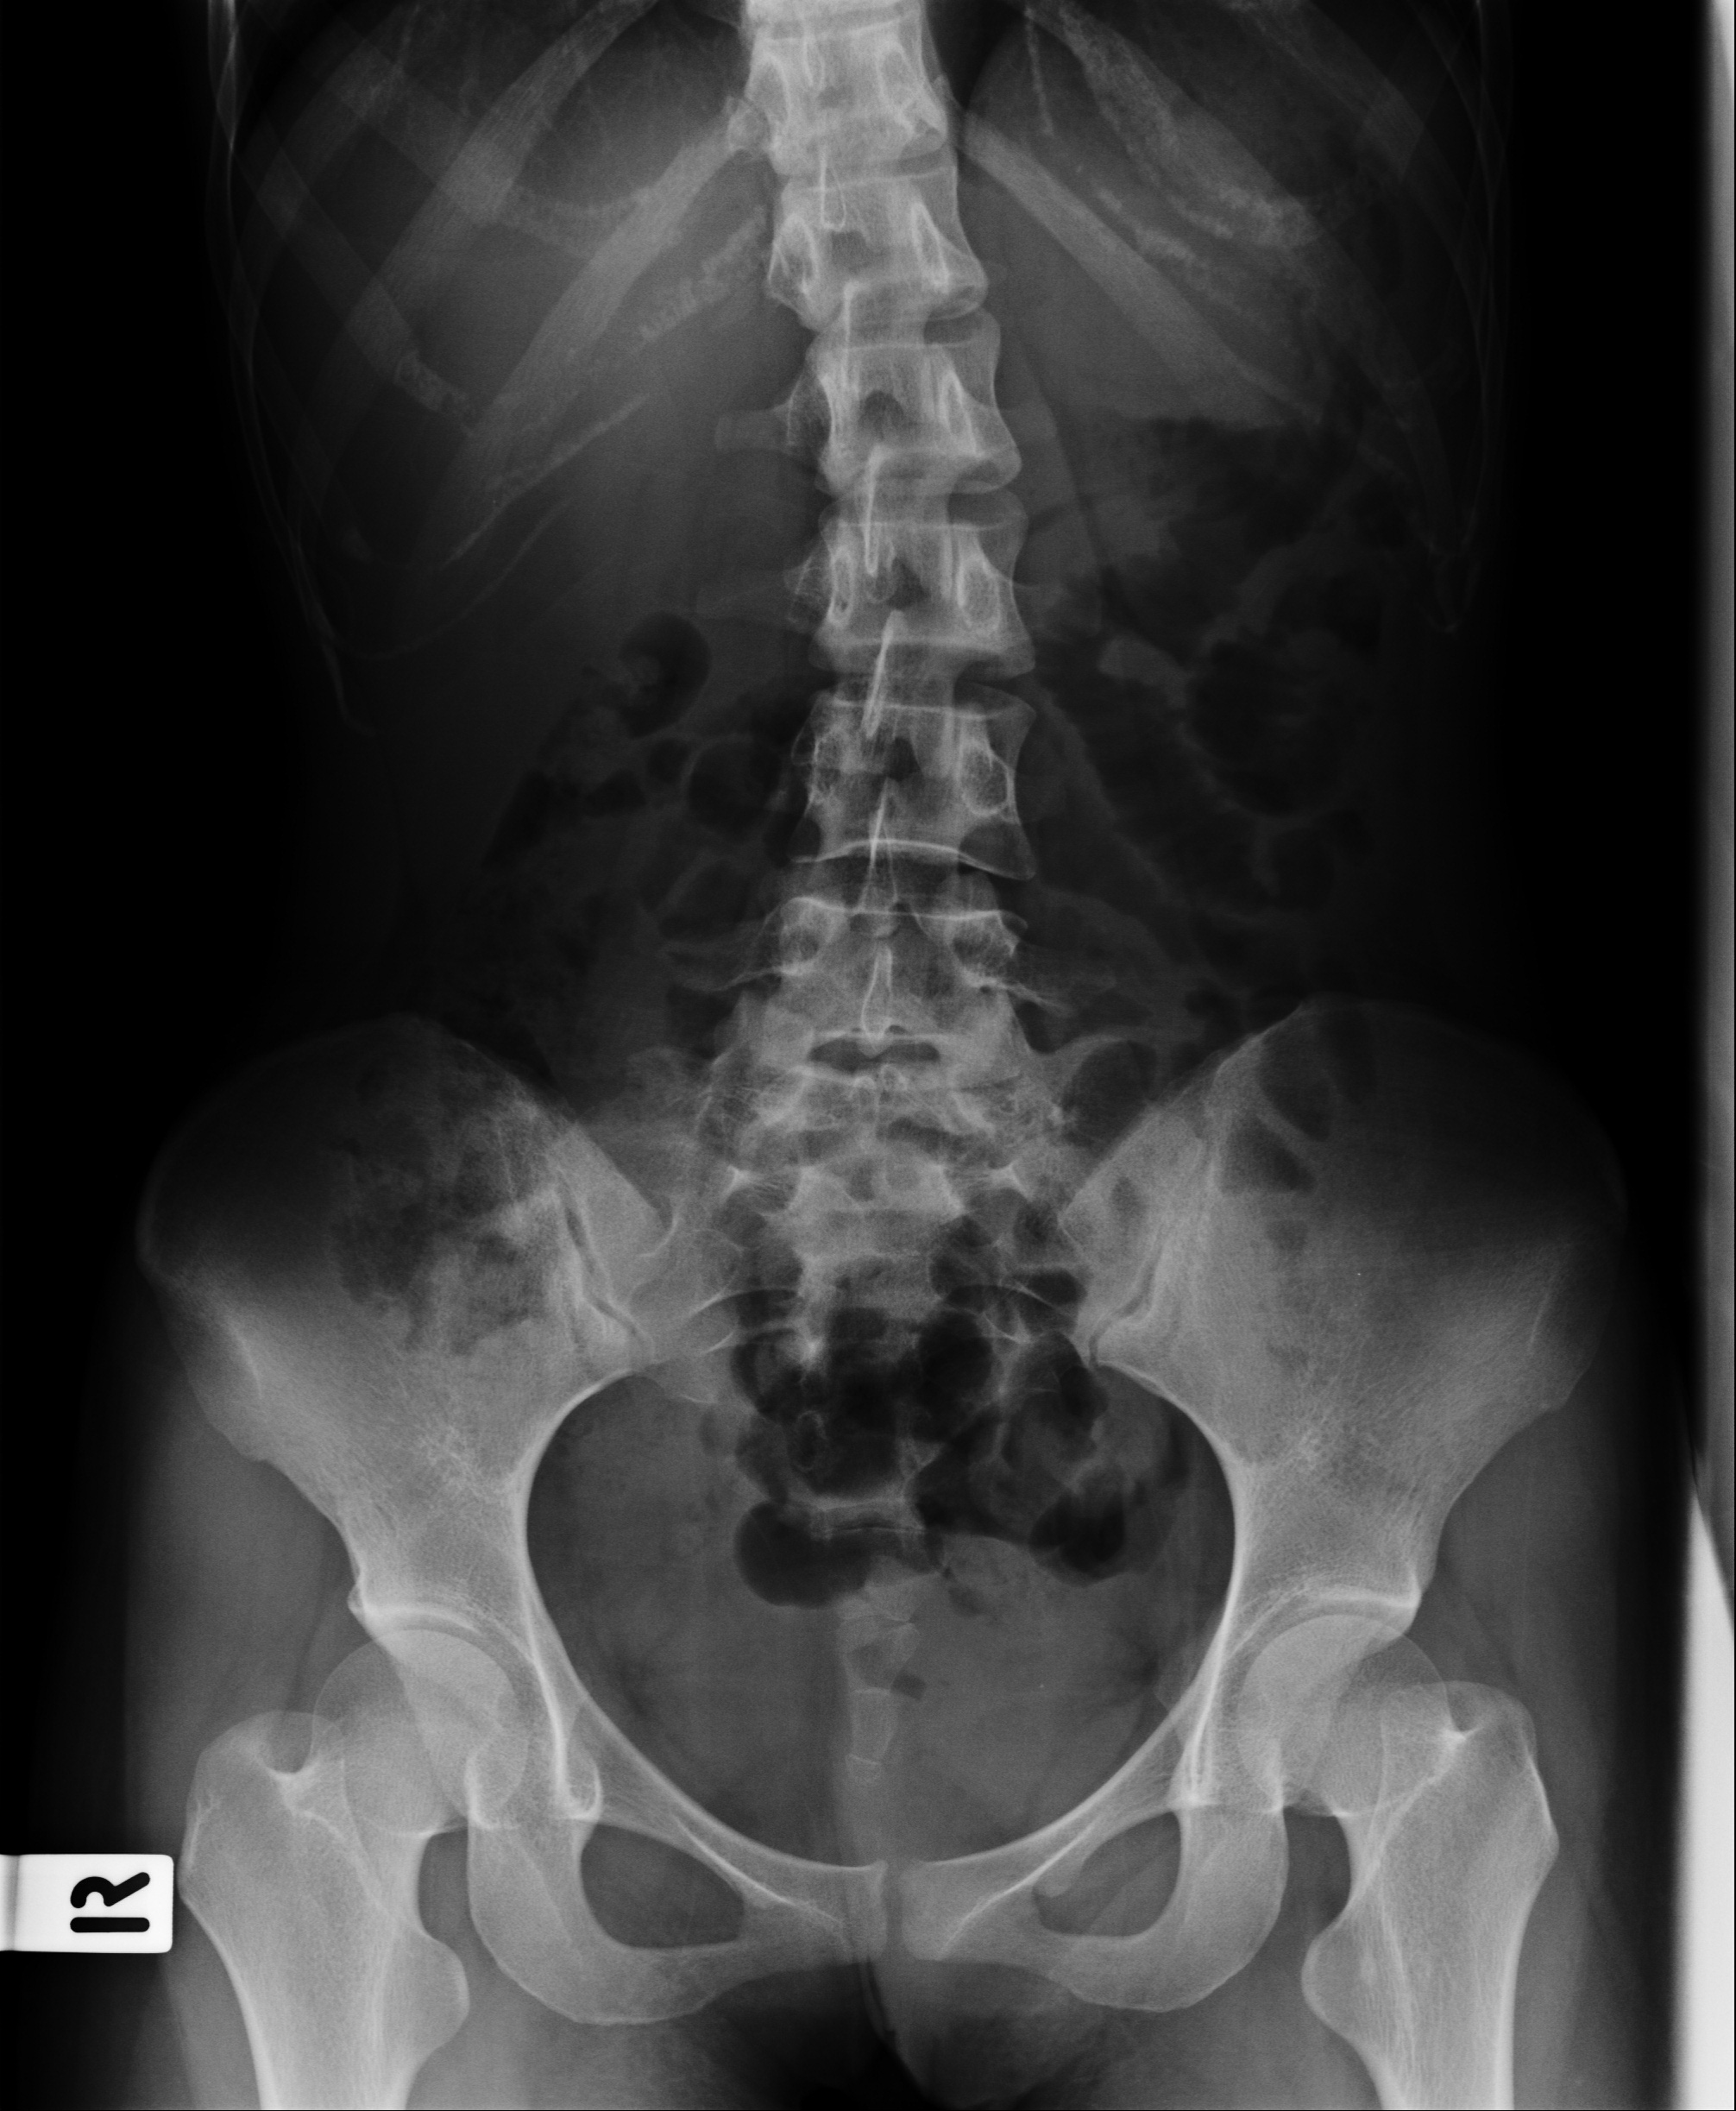lumbar scoliosis: (728, 26, 1038, 1336)
